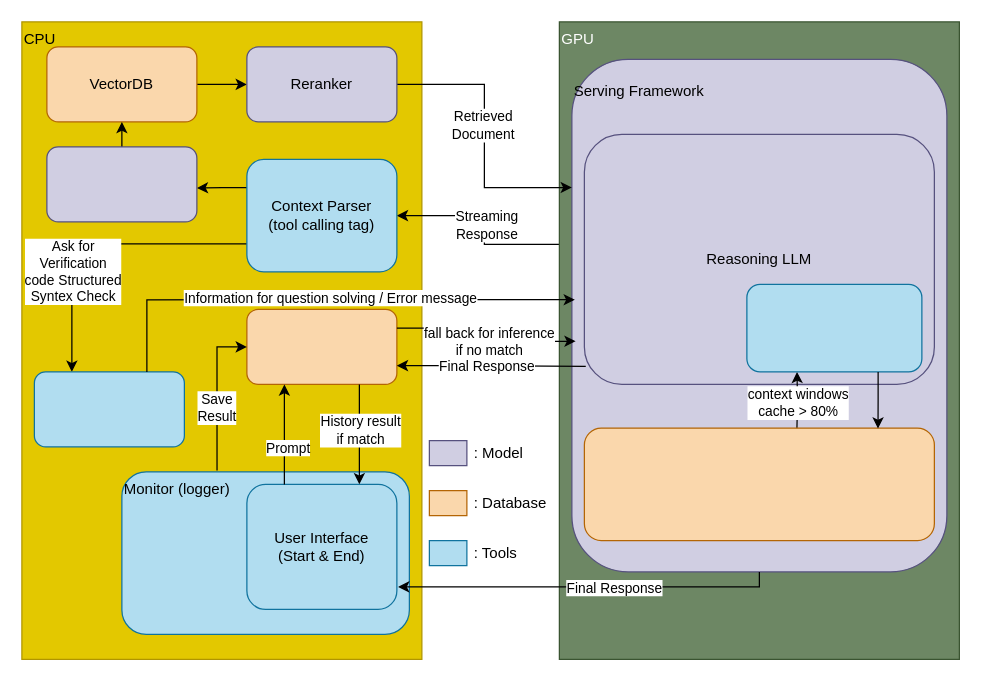
Image size: 981x681. Some labels were removed from this diagram. Each missing label, with the centre of its shape:
"Context summarize agent" goes at pixel 834 327.
"History Semantic cache" goes at pixel 321 346.
"KV cache" goes at pixel 758 484.
"Retriever" goes at pixel 121 184.
"Yosys / verilator" goes at pixel 108 409.
